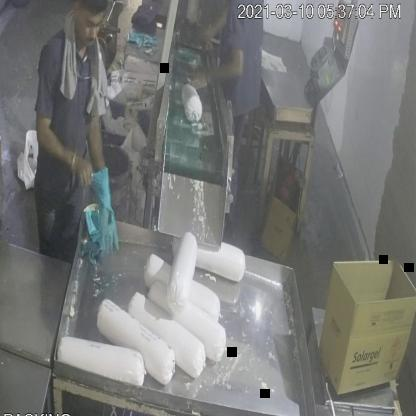glove: (87, 162, 125, 258)
no_glove: (29, 112, 94, 188), (186, 50, 248, 103)
